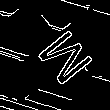M_SW: (21, 21, 89, 89)
